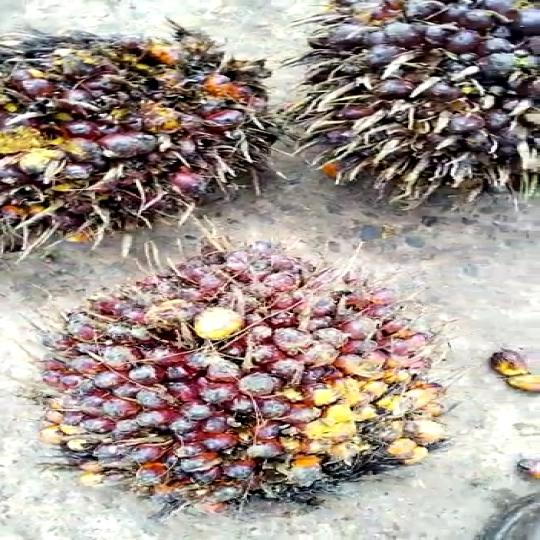masak: (24, 250, 452, 507), (0, 26, 294, 254), (284, 0, 540, 221)
